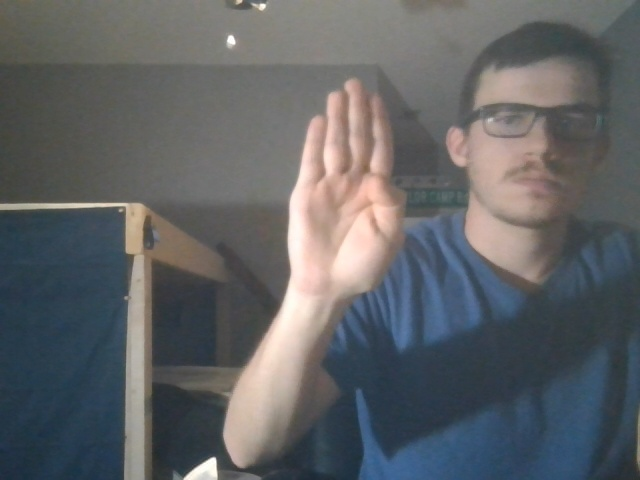B: (280, 71, 418, 301)
